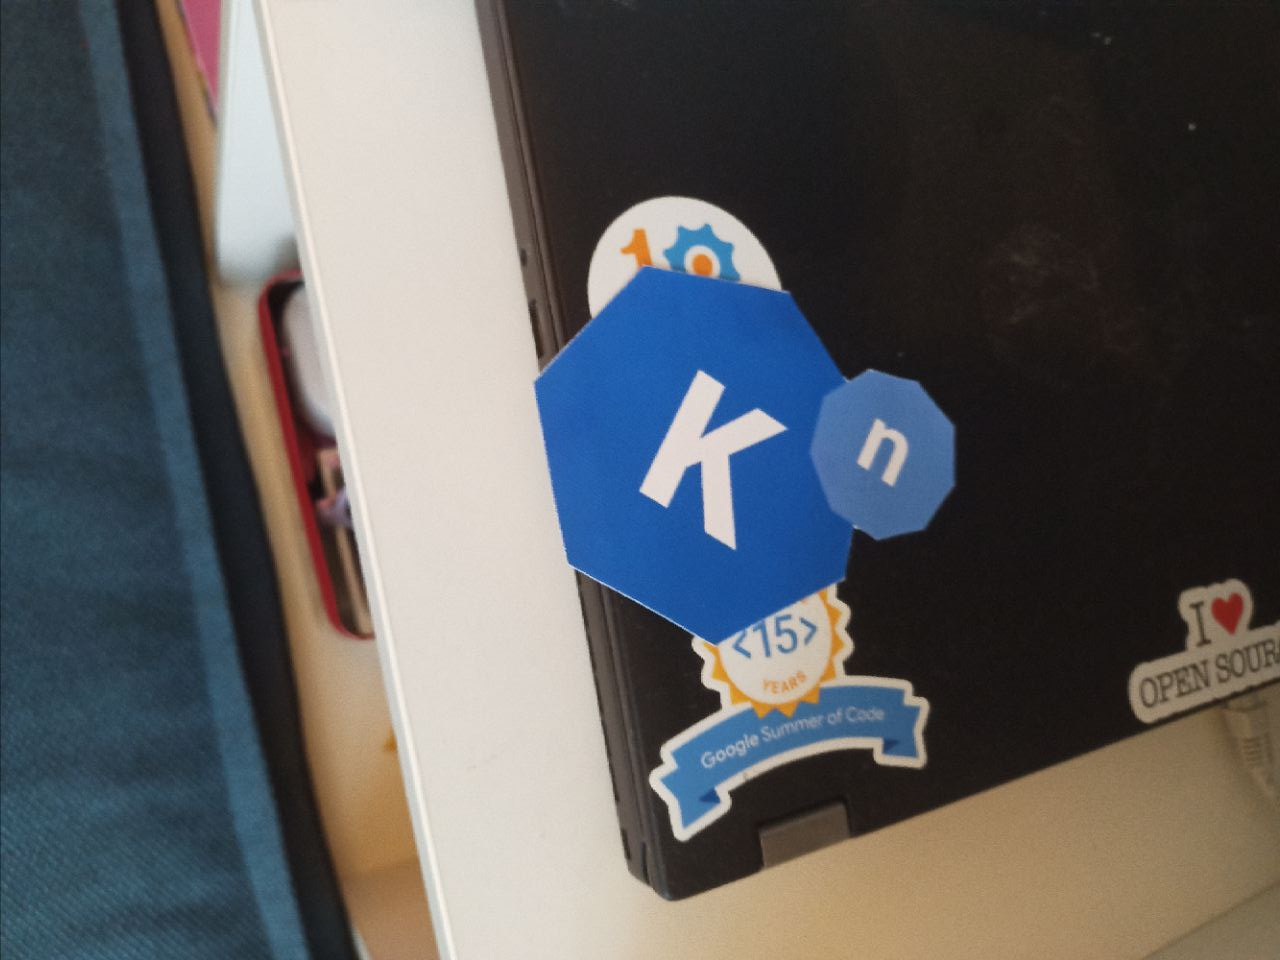knative: (533, 264, 956, 645)
